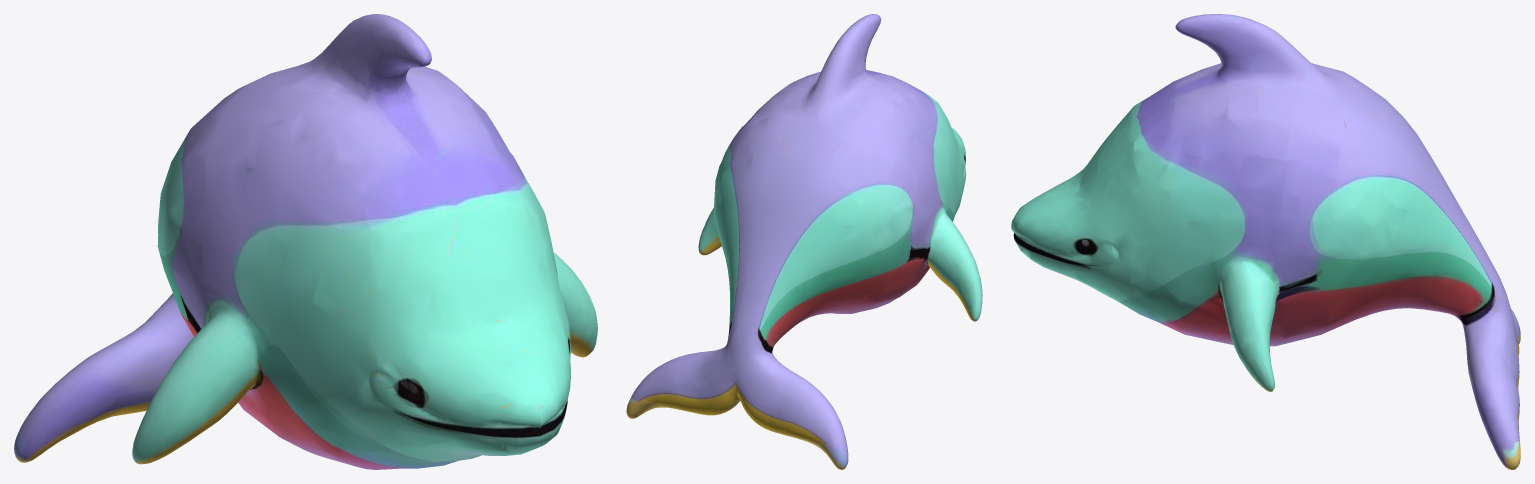
File: dolphin.glb
3 renders of one model, left to right at view 1: azimuth 30°, elevation 25°; view 2: azimuth 150°, elevation 25°; view 3: azimuth 270°, elevation 25°, orthographic. The views are drawn at different scales.
Visible parts, largest first — view 1: Mesh_0; view 2: Mesh_0; view 3: Mesh_0.
Part boxes in pixels (box(x1,y1,x2,y2)): Mesh_0: box(14, 14, 597, 469); Mesh_0: box(626, 14, 982, 469); Mesh_0: box(1011, 14, 1520, 469).
Size of the model in its own units: 1.43 by 1.62 by 1.9.
Materials: 1 (1 with a texture image).
